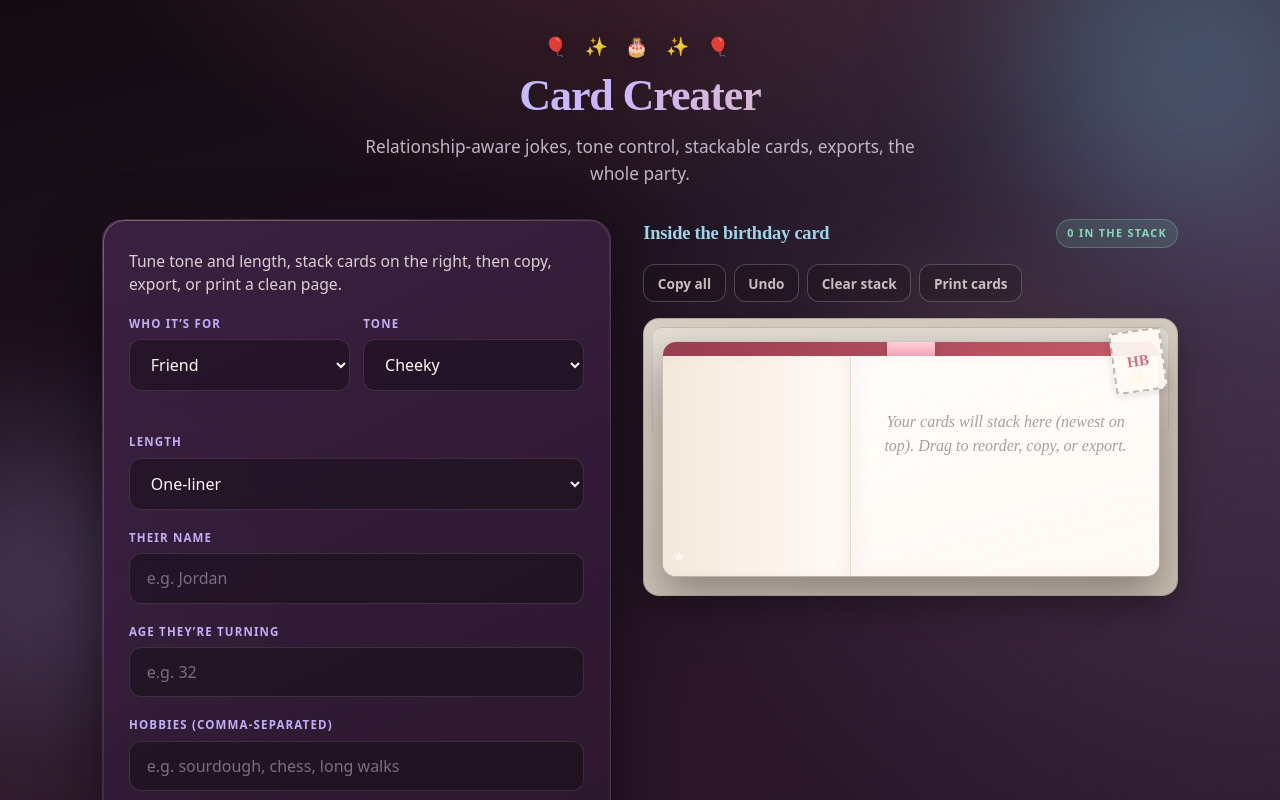
App › rejects invalid input (1: Jordan)
This screenshot has width=1280, height=800.
Type "Jordan" into the field labelled "Their name".
click(356, 578); type("Jordan")  # box [129,553,584,604]
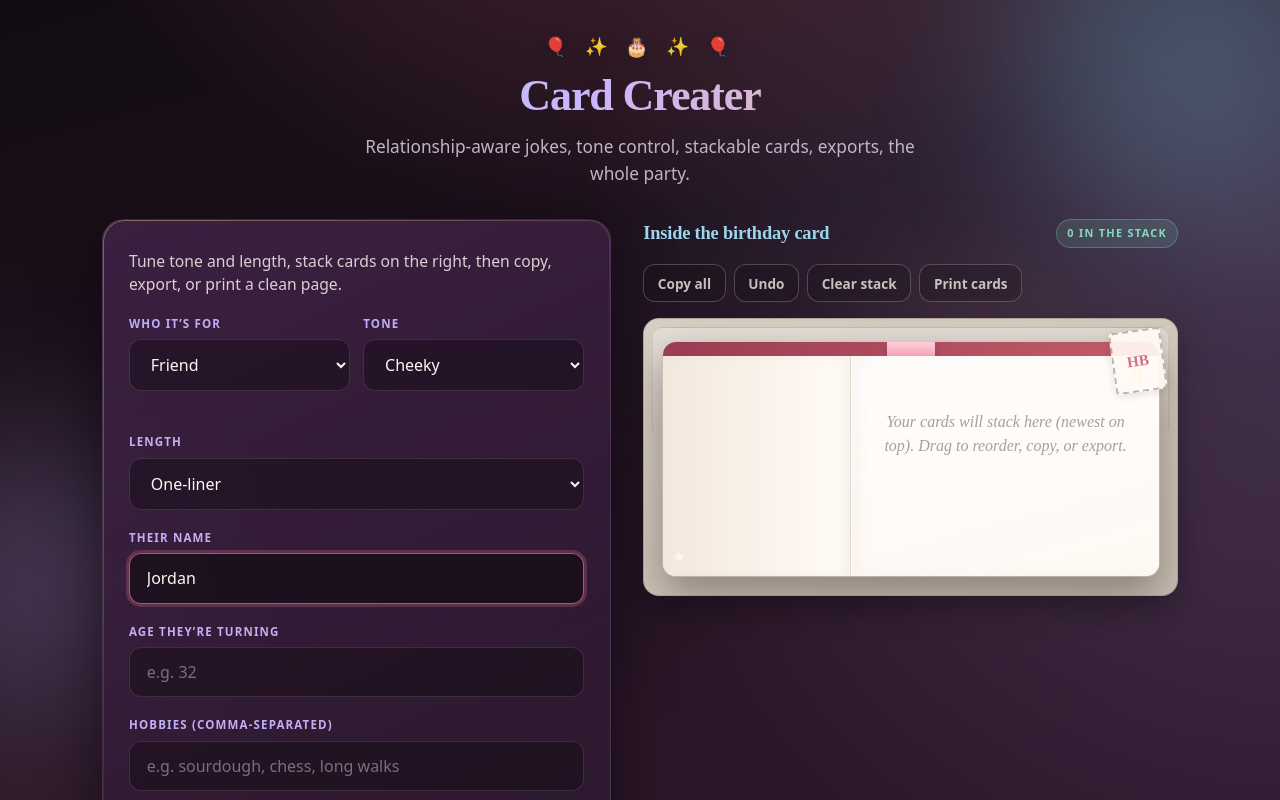
Type "chess" into the field labelled "Hobbies (comma-separated)".
click(356, 766); type("chess")  # box [129,741,584,791]
(page scrolled)
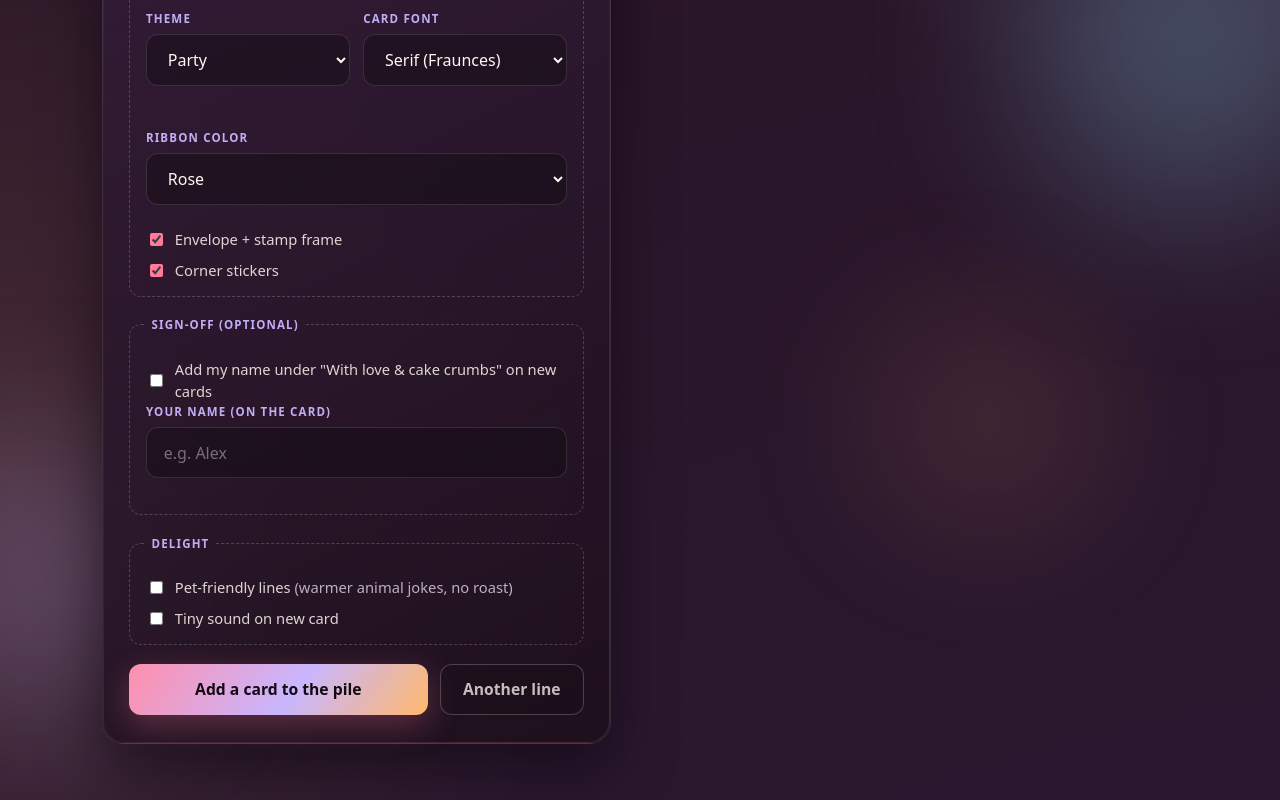
Click the button "Add a card to the pile".
click(278, 689)  # box [129,664,428,715]
(page scrolled)
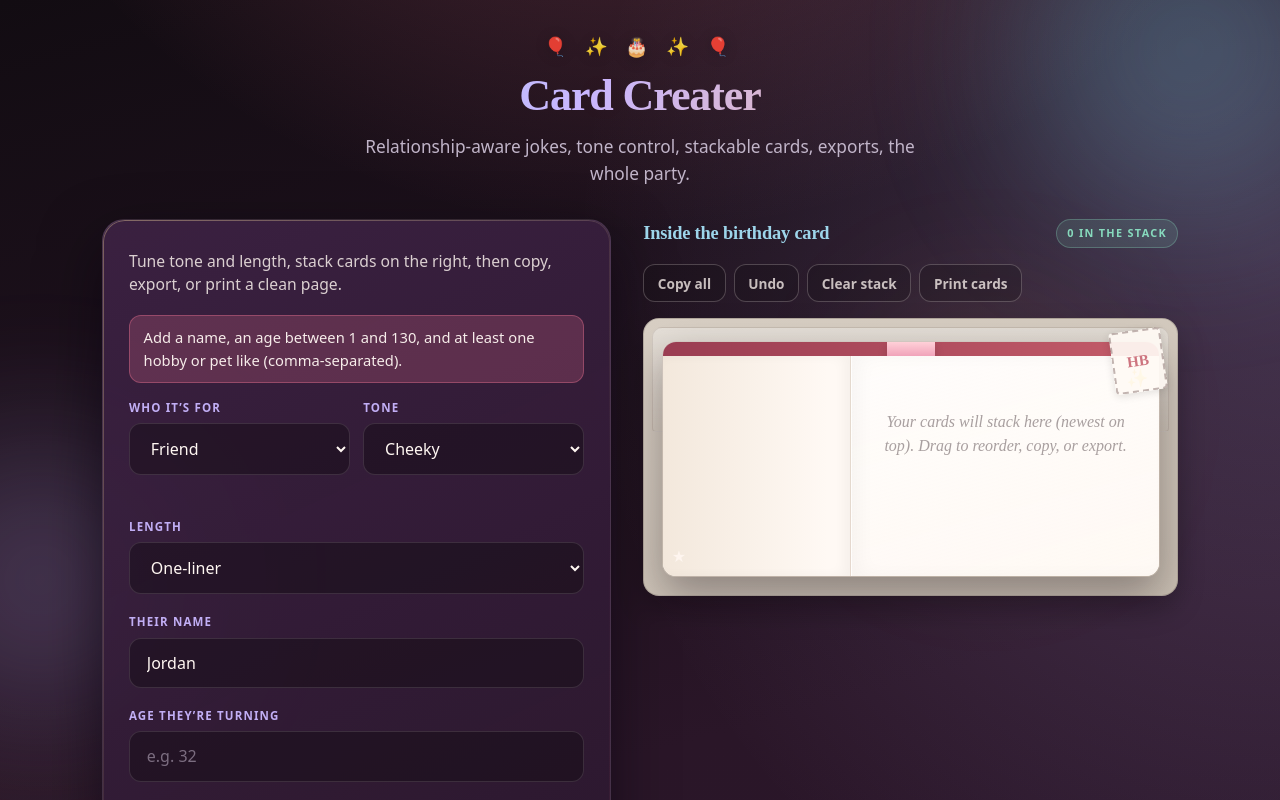
Expected: the text "0 in the stack" is shown, [1056,219,1178,248]
Now the message is shown, box [129,315,584,383]
